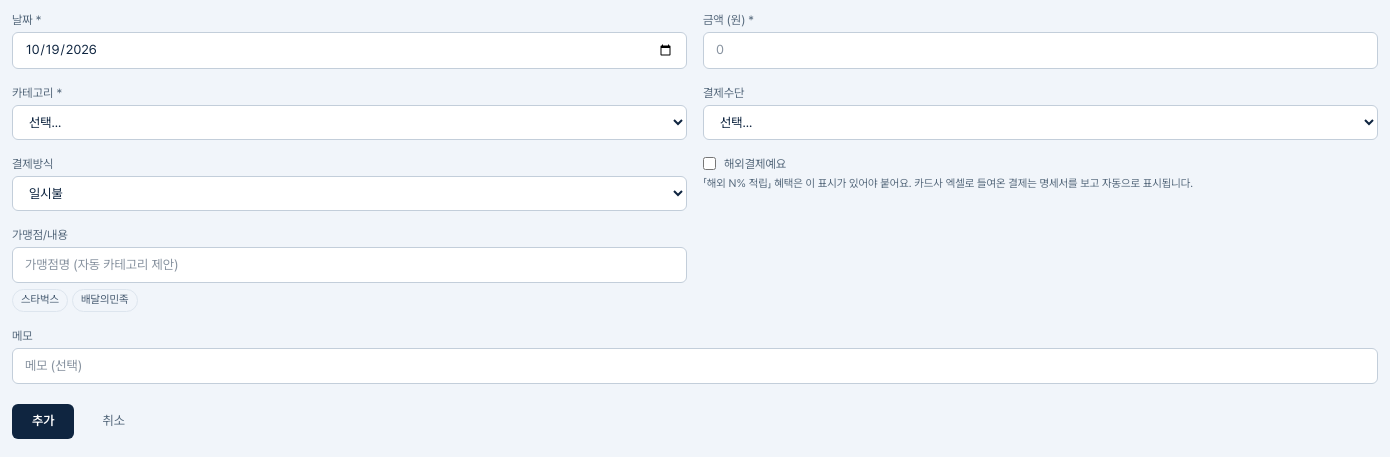
Test: TransactionForm Suggest Tests › E. 제안 실패 › E-3. 제안이 category_id 없이 { confidence: "low" } 만 주면 | 카테고리는 비어 있고 확신도 뱃지는 "low" 로 뜬다
The image size is (1390, 457).
Type "스타벅스" into the field labelled "가맹점/내용".
click(350, 265); type("스타벅스")  # box x1=12 y1=247 x2=687 y2=283
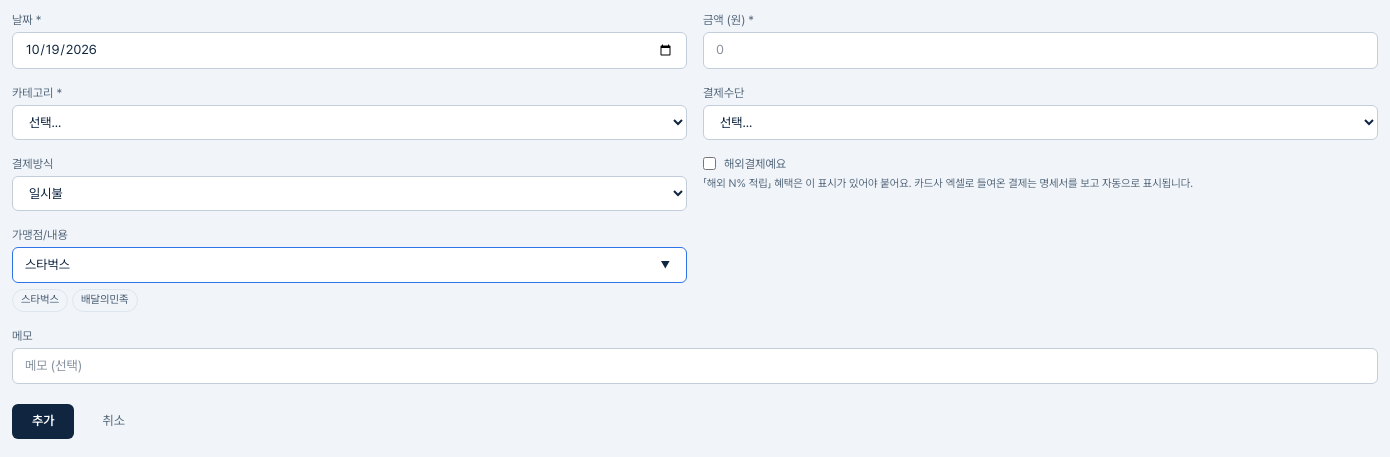
Press Tab
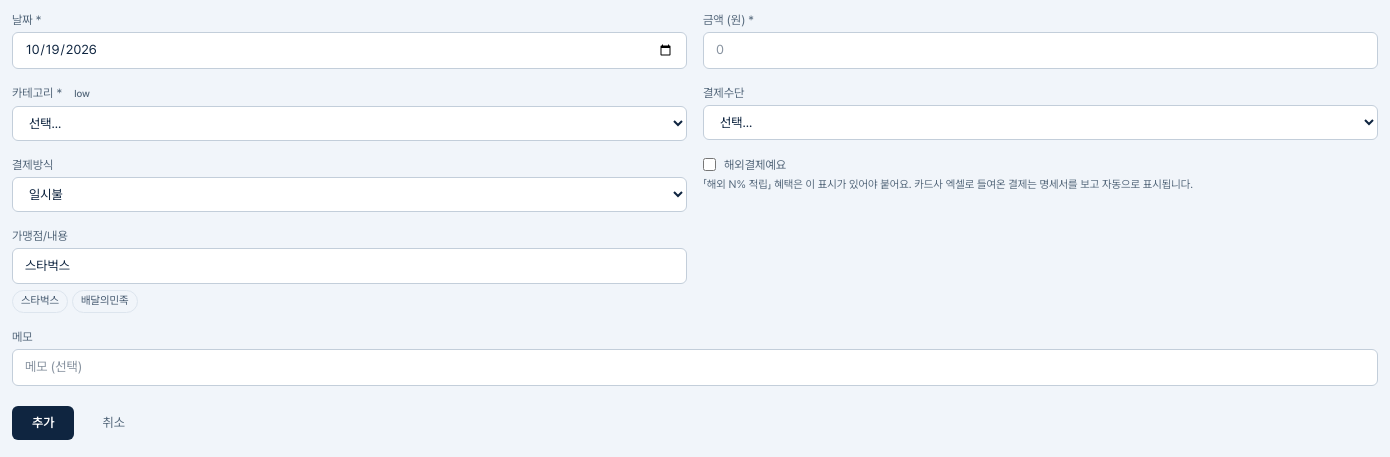
Expected: the dropdown labelled "카테고리 * low" shows "선택...", x1=12 y1=106 x2=687 y2=141
Now the text "low" is shown, box x1=74 y1=87 x2=90 y2=99
